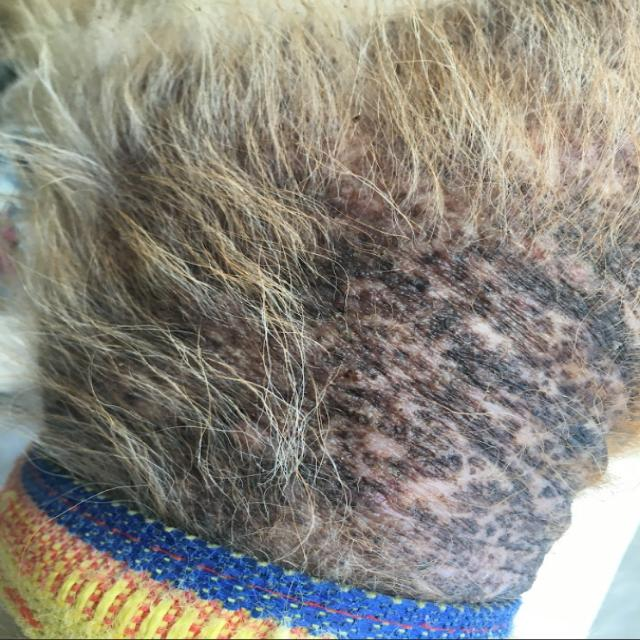demodicosis: (312, 210, 602, 584)
